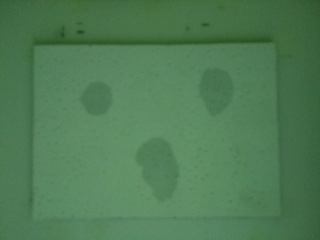Water_detected: (129, 139, 185, 194), (198, 73, 233, 116), (85, 82, 118, 115)
